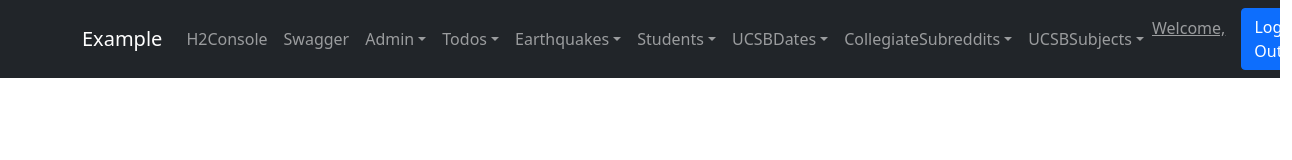
Test: AppNavbar tests › renders the CollegiateSubreddit menu correctly for a user
The width and height of the screenshot is (1292, 160).
Click the button "CollegiateSubreddits". click: x=922, y=39
box: [844,28,1000,50]
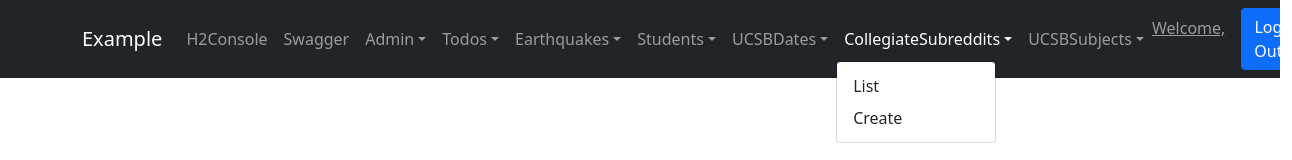
Expected: the link with test id "appnavbar-collegiatesubreddits-list" is shown, [853,75,879,97]
